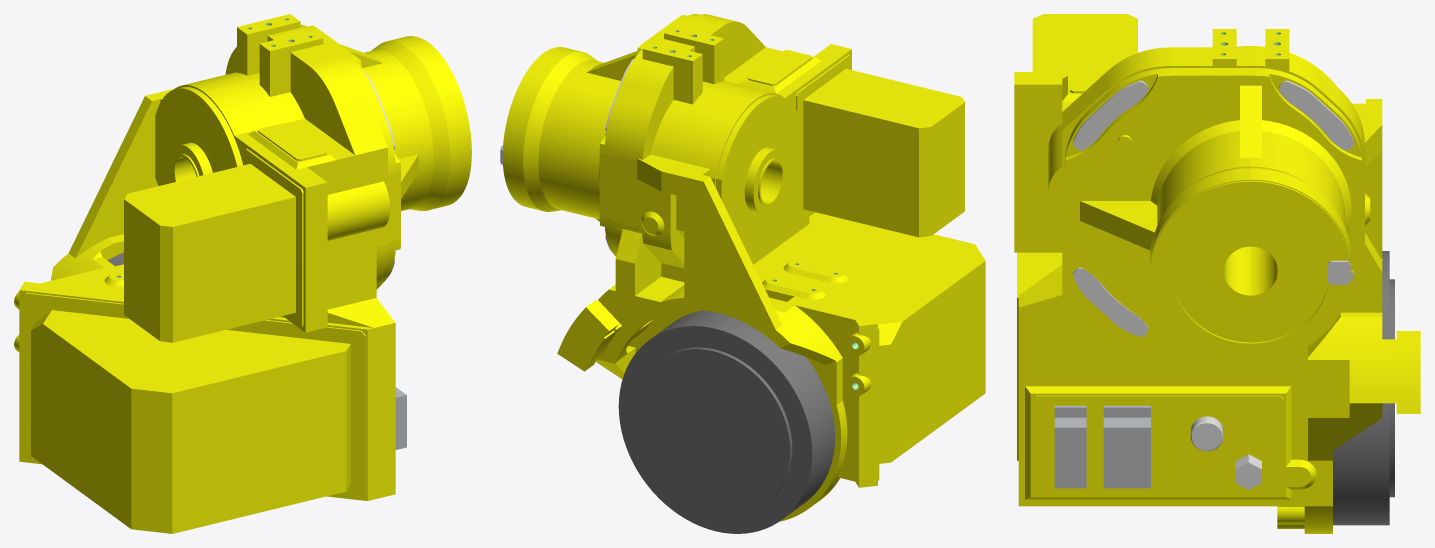
The picture shows the model from 3 angles, left to right: view 1: azimuth 30°, elevation 25°; view 2: azimuth 150°, elevation 25°; view 3: azimuth 270°, elevation 25°; orthographic projection. The views are drawn at different scales.
Parts seen in each view (by area): view 1: Mesh_0; view 2: Mesh_0; view 3: Mesh_0.
Boxes of the visible parts, box(x1,y1,x2,y2) form: Mesh_0: box(14, 14, 471, 533); Mesh_0: box(500, 14, 985, 533); Mesh_0: box(1014, 14, 1420, 533).
Bounding box in the file's own units: 0.4708 × 0.371 × 0.533.
